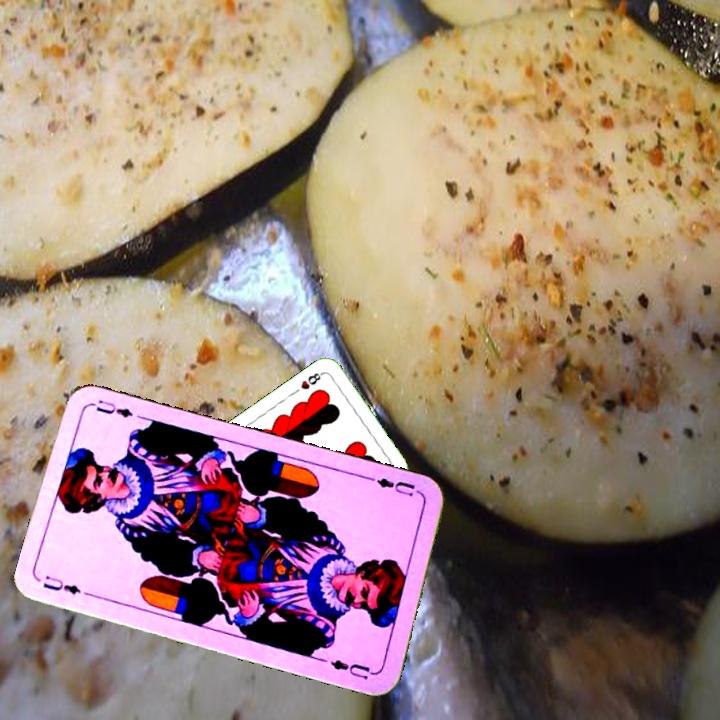EU: (367, 473, 425, 499), (39, 571, 83, 597)
H8: (296, 368, 326, 392)
